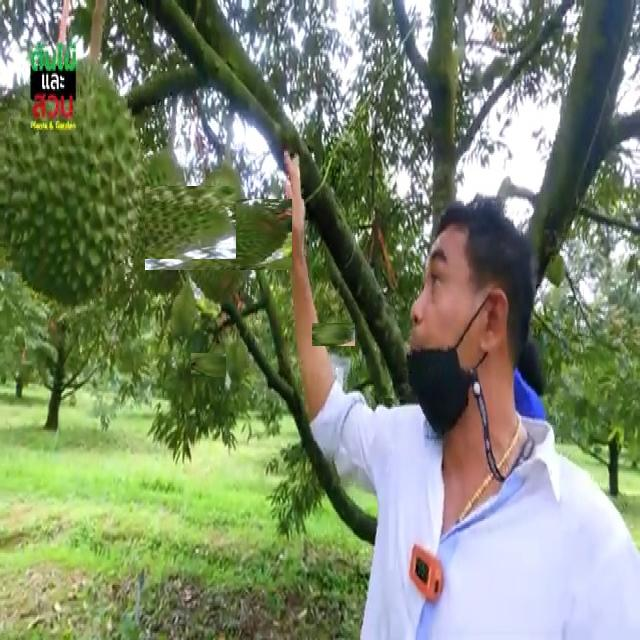durian: (1, 60, 145, 312), (103, 166, 216, 280), (164, 179, 274, 289), (197, 345, 236, 384), (226, 336, 251, 386), (317, 318, 351, 351)
